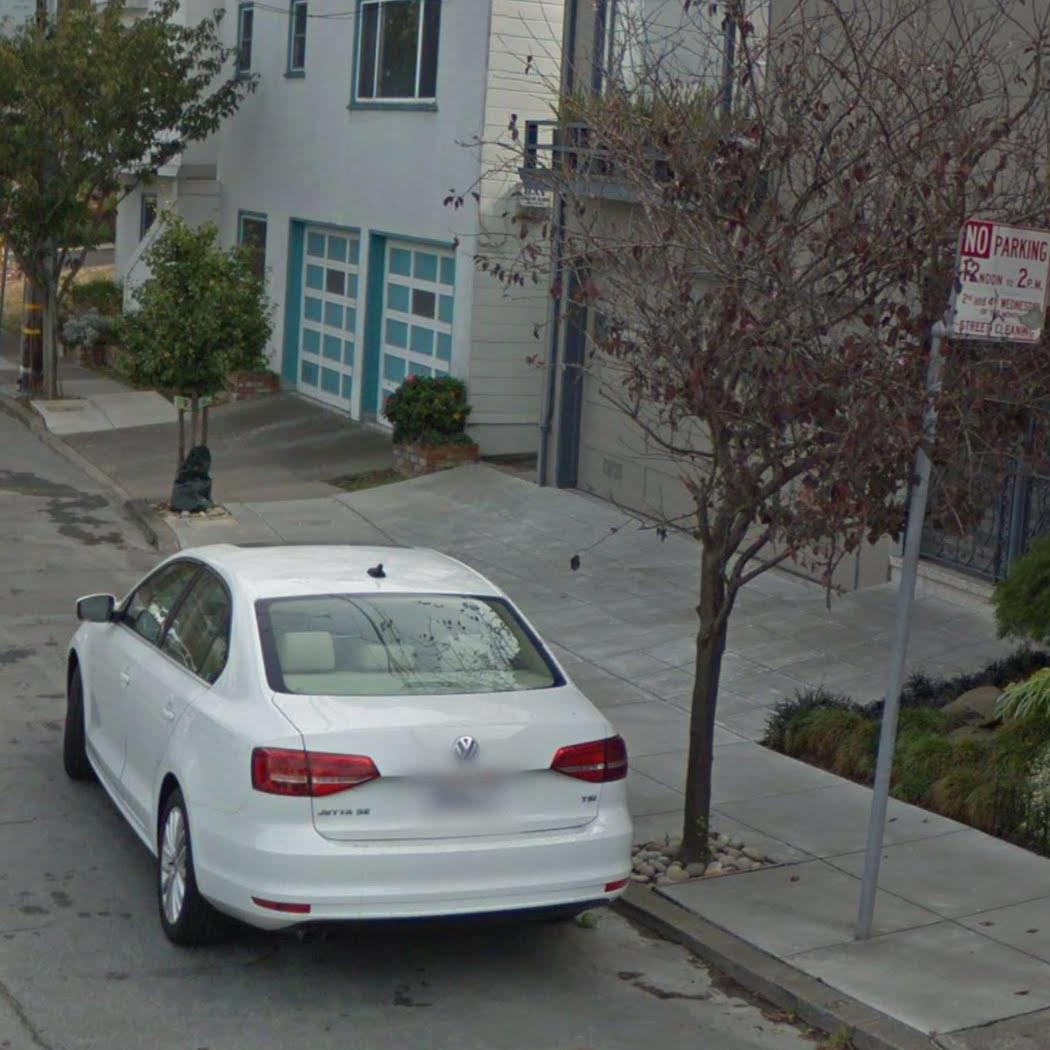No Parking: (957, 209, 1050, 357)
